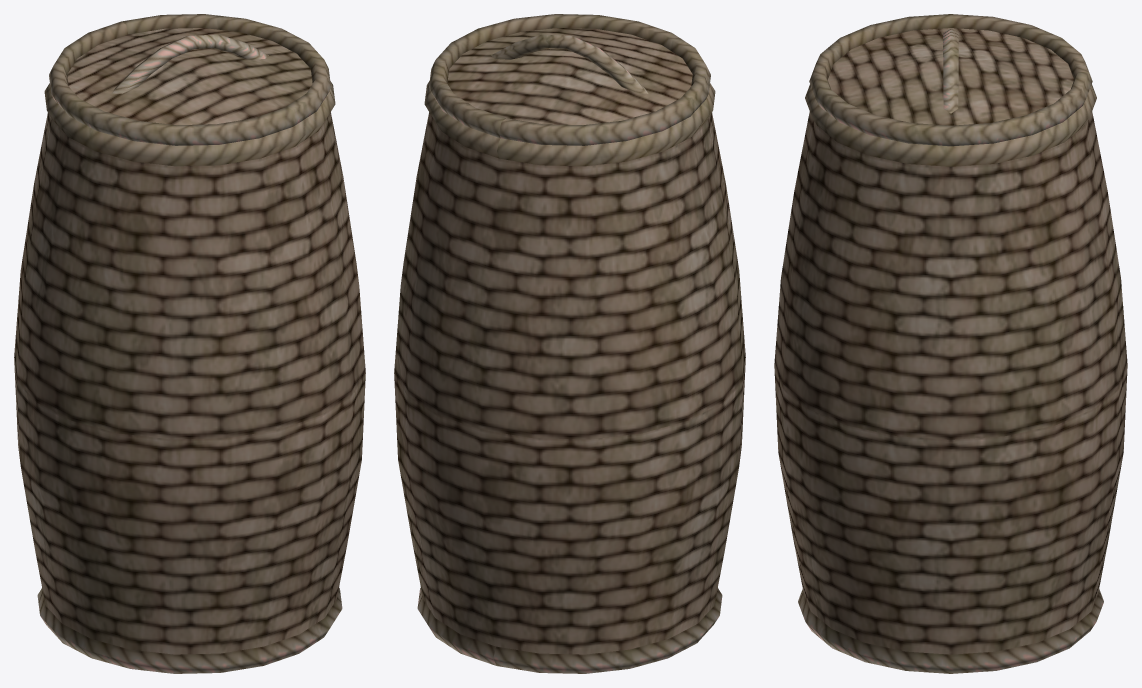
Rendered from village_wicker_basket_01.fbx.
3 renders of one model, left to right at view 1: azimuth 30°, elevation 25°; view 2: azimuth 150°, elevation 25°; view 3: azimuth 270°, elevation 25°, orthographic.
Parts seen in each view (by area): view 1: village_wicker_basket_01_body, village_wicker_basket_01_top; view 2: village_wicker_basket_01_body, village_wicker_basket_01_top; view 3: village_wicker_basket_01_body, village_wicker_basket_01_top.
Boxes of the visible parts, bbox=[...] form: village_wicker_basket_01_body: bbox=[14, 81, 365, 673]; village_wicker_basket_01_top: bbox=[49, 14, 330, 145]; village_wicker_basket_01_body: bbox=[394, 81, 745, 673]; village_wicker_basket_01_top: bbox=[429, 14, 710, 145]; village_wicker_basket_01_body: bbox=[774, 84, 1127, 673]; village_wicker_basket_01_top: bbox=[809, 14, 1092, 146].
Size of the model in its own units: 48.08 by 86.51 by 48.08.
